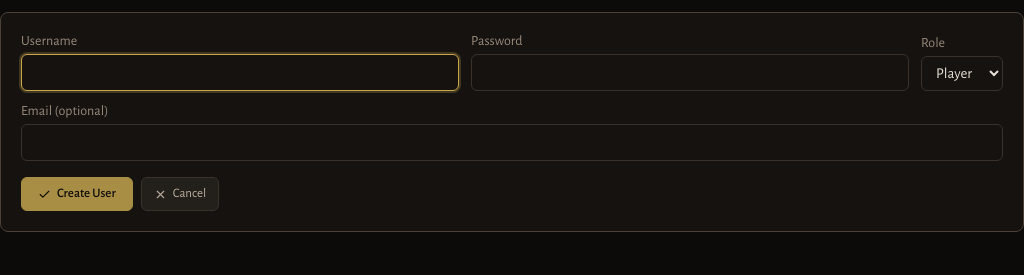
Test: AddUserForm › shows validation error when password is shorter than 8 characters
In the field labelled "Username": x=240, y=72 [21,54,459,91], type "alice"
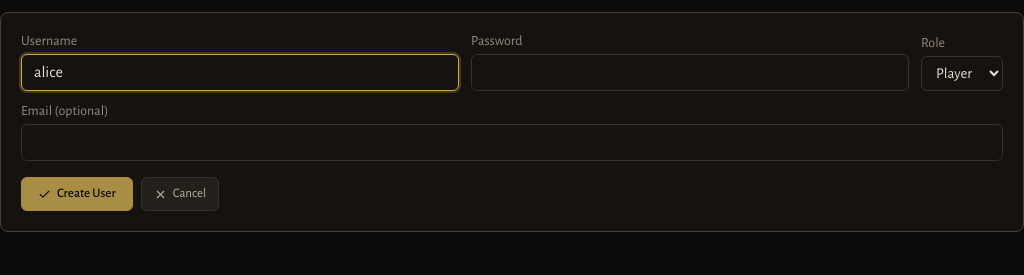
In the password field labelled "Password": x=690, y=72 [471,54,909,91], type "short"
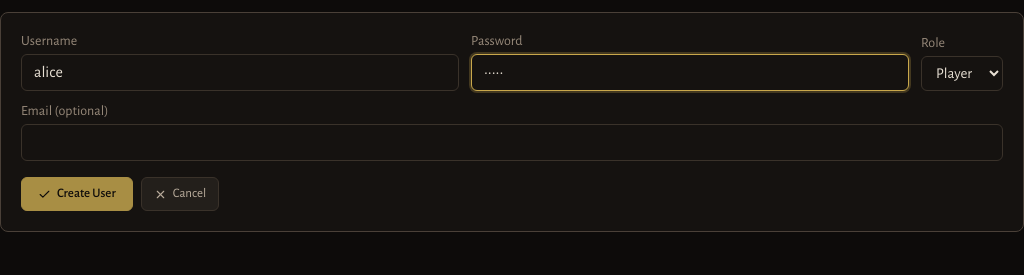
Click the button "Create User": x=77, y=194 [21,177,133,211]
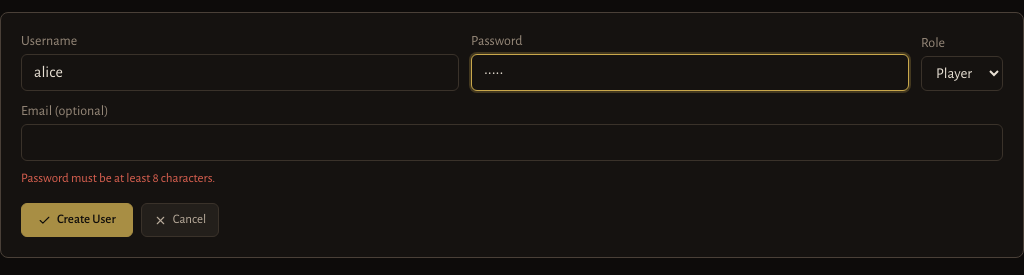
Check: the text "Password must be at least 8 characters." is shown, box [21,172,215,185]
